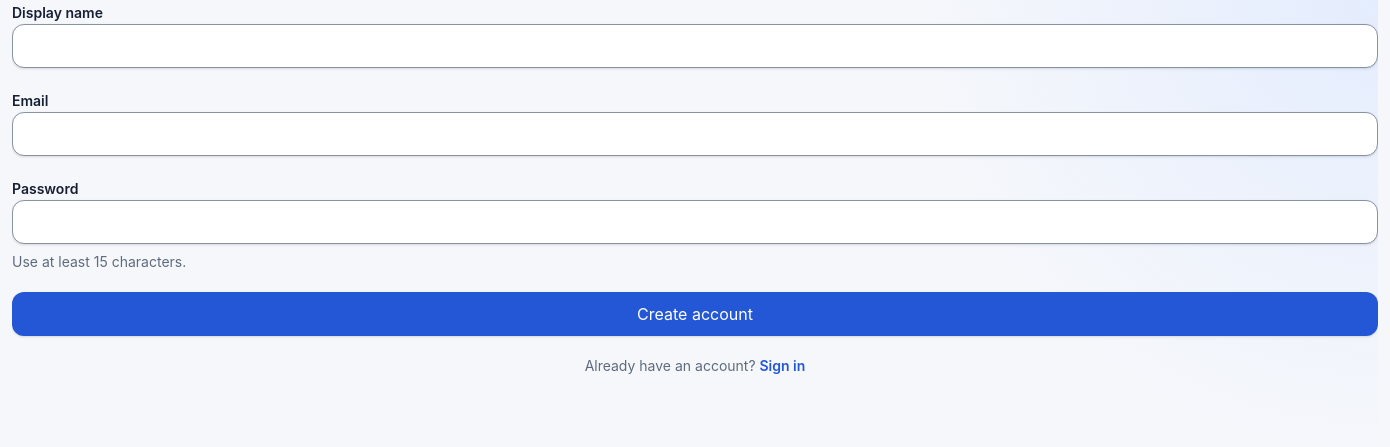
Test: RegisterForm › shows email and password validation errors
In the field labelled "Email": (695, 134) [12, 112, 1378, 156], type "invalid"
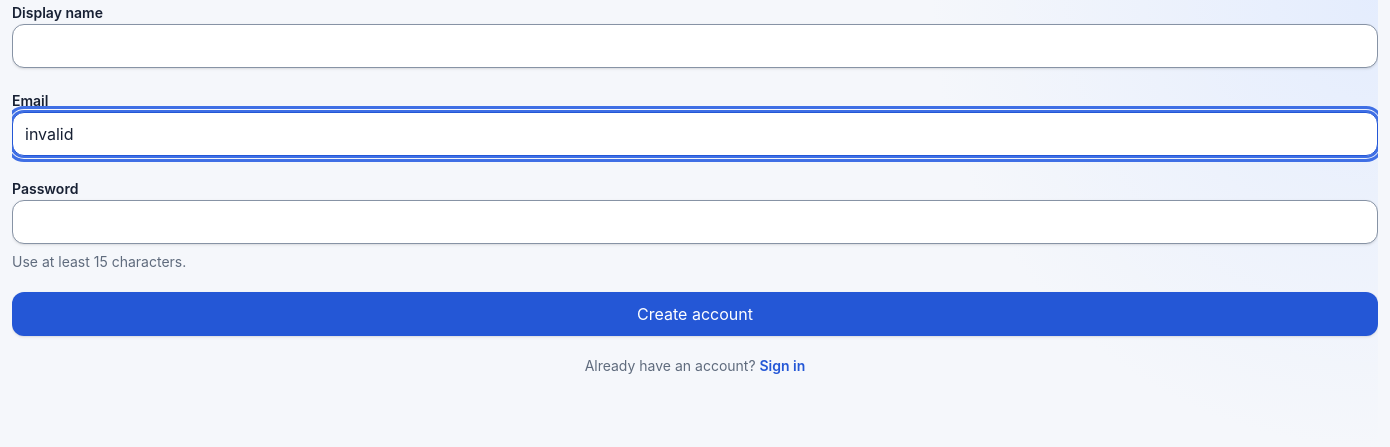
In the password field labelled "Password": (695, 222) [12, 200, 1378, 244], type "short"
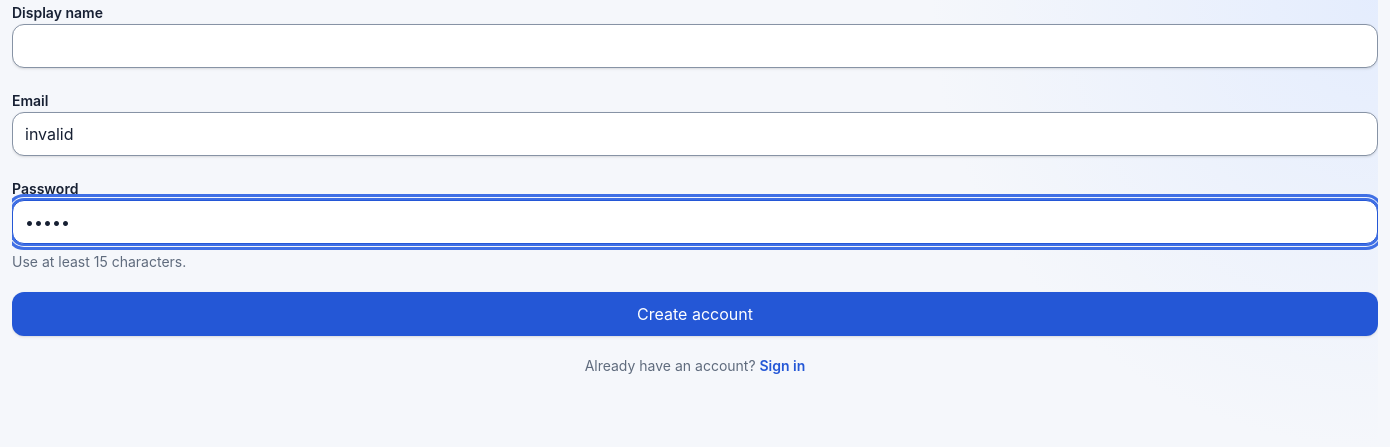
Click the button "Create account": (695, 314) [12, 292, 1378, 336]
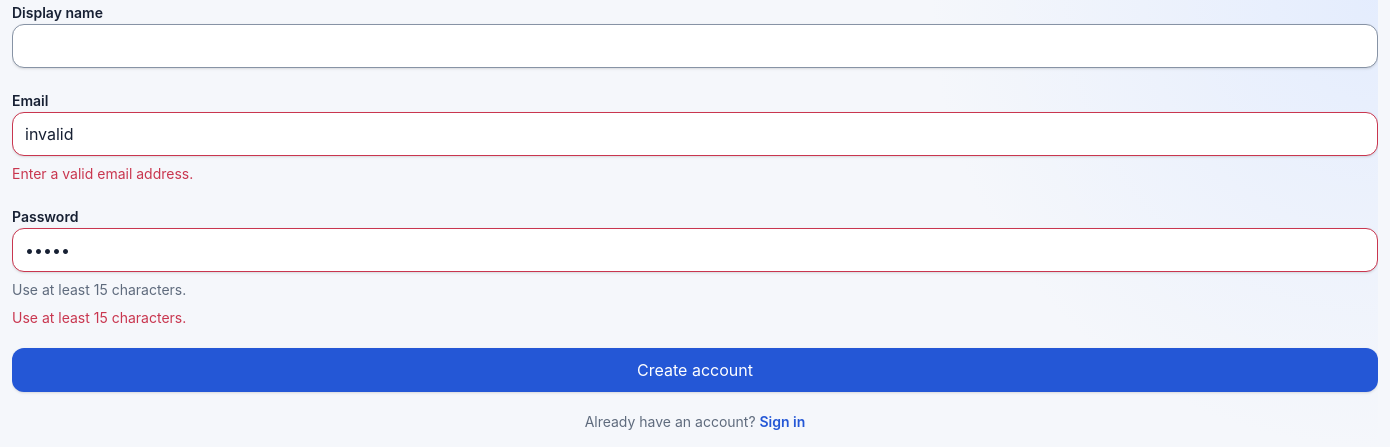
Result: the text "Enter a valid email address." is shown at [12, 165, 193, 182]
Result: the text with id "register-password-error" reads "Use at least 15 characters." at [12, 309, 186, 326]
